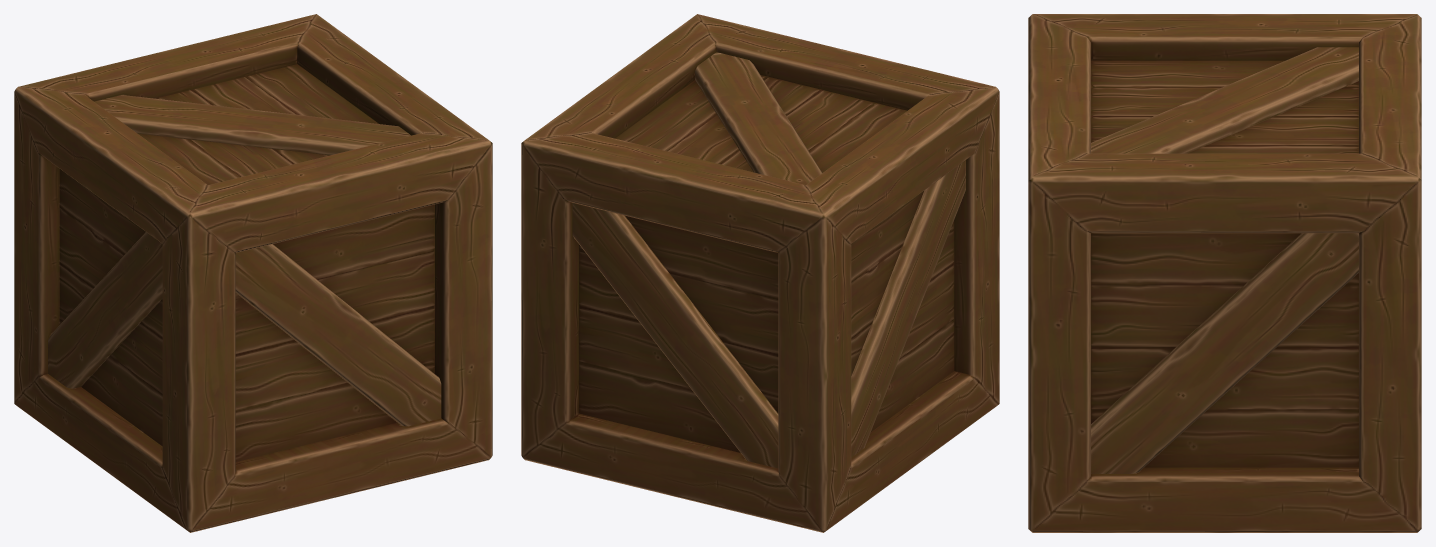
Rendered from SM_Wooden_Crate.fbx.
3 renders of one model, left to right at view 1: azimuth 30°, elevation 25°; view 2: azimuth 150°, elevation 25°; view 3: azimuth 270°, elevation 25°, orthographic. The views are drawn at different scales.
Visible parts, largest first — view 1: SM_Wooden_Crate_LOD0; view 2: SM_Wooden_Crate_LOD0; view 3: SM_Wooden_Crate_LOD0.
Part boxes in pixels (box(x1,y1,x2,y2)): SM_Wooden_Crate_LOD0: box(14, 14, 492, 532); SM_Wooden_Crate_LOD0: box(521, 14, 999, 532); SM_Wooden_Crate_LOD0: box(1028, 14, 1421, 532).
Bounding box in the file's own units: 53.18 × 53.18 × 53.18.
Materials: 1 (1 with a texture image).
